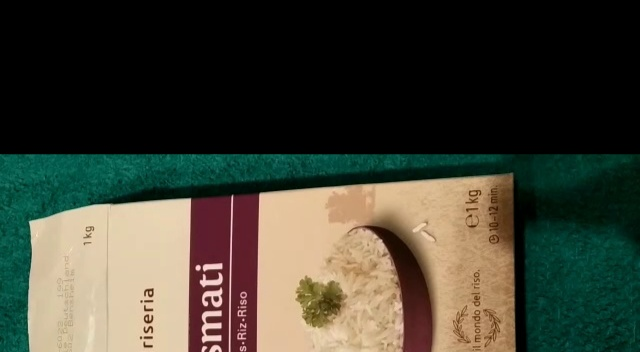basmati_rice: (20, 170, 525, 352)
